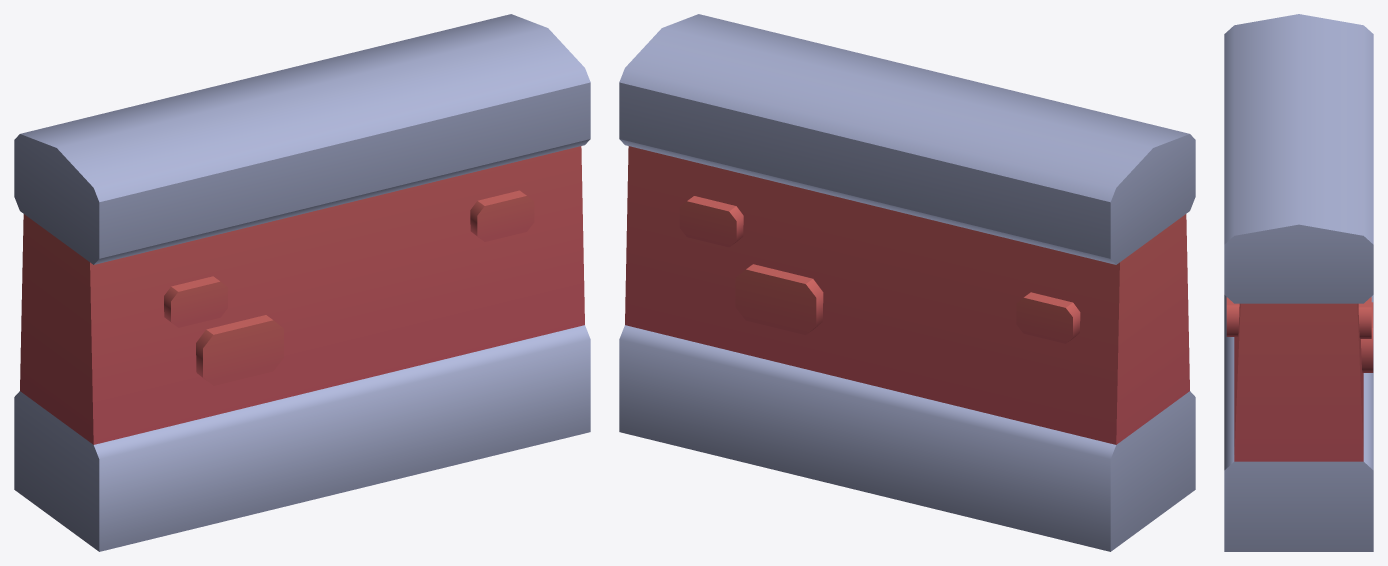
Rendered from brick-wall.037_lev2.glb.
The picture shows the model from 3 angles, left to right: view 1: azimuth 30°, elevation 25°; view 2: azimuth 150°, elevation 25°; view 3: azimuth 270°, elevation 25°; orthographic projection. The views are drawn at different scales.
Parts seen in each view (by area): view 1: brick-wall.037_lev2; view 2: brick-wall.037_lev2; view 3: brick-wall.037_lev2.
Boxes of the visible parts, left/top/right/bottom form: brick-wall.037_lev2: left=14, top=14, right=590, bottom=551; brick-wall.037_lev2: left=619, top=14, right=1195, bottom=551; brick-wall.037_lev2: left=1224, top=14, right=1373, bottom=551.
Size of the model in its own units: 7.76 by 5.63 by 2.33.
Materials: 1 (1 with a texture image).
